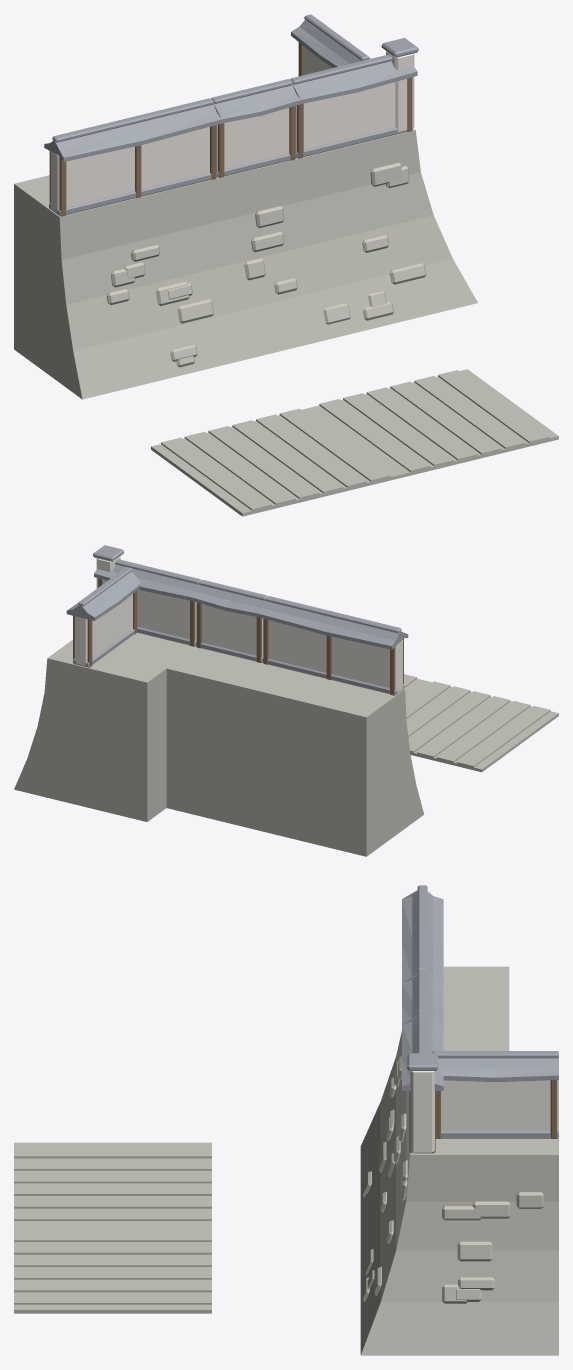
File: feudal-japan-castle-town-castle-wall-connector-cases-d81edc65__26613.glb
3 views of the same model, one above another, from view 1: azimuth 30°, elevation 25°; view 2: azimuth 150°, elevation 25°; view 3: azimuth 270°, elevation 25° (orthographic). The views are drawn at different scales.
Visible parts, largest first — view 1: 000-stone-base-straight/0, 002-stone-base-corner/0, 001-stone-base-straight-2m/0, 006-stone-market-road/1, 007-stone-market-road/1, 003-wall-walk-straight/0, 005-wall-walk-corner/2, 003-wall-walk-straight/2, 005-wall-walk-corner/0, 006-stone-market-road/0, 007-stone-market-road/0, 004-wall-walk-straight-2m/0 (+4 smaller); view 2: 000-stone-base-straight/0, 002-stone-base-corner/0, 001-stone-base-straight-2m/0, 006-stone-market-road/1, 003-wall-walk-straight/0, 005-wall-walk-corner/2, 005-wall-walk-corner/0, 003-wall-walk-straight/2, 004-wall-walk-straight-2m/0, 006-stone-market-road/0, 004-wall-walk-straight-2m/2, 005-wall-walk-corner/1 (+2 smaller); view 3: 002-stone-base-corner/0, 007-stone-market-road/1, 006-stone-market-road/1, 000-stone-base-straight/0, 005-wall-walk-corner/0, 005-wall-walk-corner/2, 007-stone-market-road/0, 003-wall-walk-straight/2, 006-stone-market-road/0, 001-stone-base-straight-2m/0, 004-wall-walk-straight-2m/2, 005-wall-walk-corner/1.
Boxes of the visible parts, x1=… form: 000-stone-base-straight/0: x1=14, y1=175, x2=240, y2=399; 002-stone-base-corner/0: x1=296, y1=128, x2=477, y2=341; 001-stone-base-straight-2m/0: x1=217, y1=159, x2=319, y2=360; 006-stone-market-road/1: x1=161, y1=408, x2=390, y2=510; 007-stone-market-road/1: x1=319, y1=370, x2=548, y2=472; 003-wall-walk-straight/0: x1=50, y1=127, x2=209, y2=212; 005-wall-walk-corner/2: x1=290, y1=14, x2=418, y2=158; 003-wall-walk-straight/2: x1=44, y1=98, x2=221, y2=216; 005-wall-walk-corner/0: x1=295, y1=46, x2=414, y2=151; 006-stone-market-road/0: x1=151, y1=408, x2=400, y2=516; 007-stone-market-road/0: x1=309, y1=369, x2=558, y2=477; 004-wall-walk-straight-2m/0: x1=216, y1=108, x2=289, y2=170; 000-stone-base-straight/0: x1=233, y1=663, x2=423, y2=856; 002-stone-base-corner/0: x1=14, y1=632, x2=196, y2=821; 001-stone-base-straight-2m/0: x1=166, y1=647, x2=262, y2=824; 006-stone-market-road/1: x1=405, y1=681, x2=550, y2=767; 003-wall-walk-straight/0: x1=268, y1=620, x2=402, y2=692; 005-wall-walk-corner/2: x1=66, y1=545, x2=201, y2=667; 005-wall-walk-corner/0: x1=75, y1=556, x2=196, y2=665; 003-wall-walk-straight/2: x1=258, y1=596, x2=408, y2=695; 004-wall-walk-straight-2m/0: x1=202, y1=604, x2=263, y2=656; 006-stone-market-road/0: x1=405, y1=681, x2=558, y2=772; 004-wall-walk-straight-2m/2: x1=192, y1=579, x2=267, y2=662; 005-wall-walk-corner/1: x1=73, y1=578, x2=195, y2=667; 002-stone-base-corner/0: x1=360, y1=1101, x2=558, y2=1355; 007-stone-market-road/1: x1=14, y1=1229, x2=211, y2=1304; 006-stone-market-road/1: x1=14, y1=1146, x2=211, y2=1220; 000-stone-base-straight/0: x1=360, y1=966, x2=509, y2=1229; 005-wall-walk-corner/0: x1=410, y1=1071, x2=558, y2=1153; 005-wall-walk-corner/2: x1=402, y1=1011, x2=558, y2=1153; 007-stone-market-road/0: x1=14, y1=1226, x2=211, y2=1313; 003-wall-walk-straight/2: x1=402, y1=885, x2=443, y2=982; 006-stone-market-road/0: x1=14, y1=1142, x2=211, y2=1226; 001-stone-base-straight-2m/0: x1=360, y1=1050, x2=509, y2=1271; 004-wall-walk-straight-2m/2: x1=402, y1=969, x2=443, y2=1024; 005-wall-walk-corner/1: x1=409, y1=1080, x2=557, y2=1152.
Bounding box in the file's own units: 10 × 6.02 × 11.
